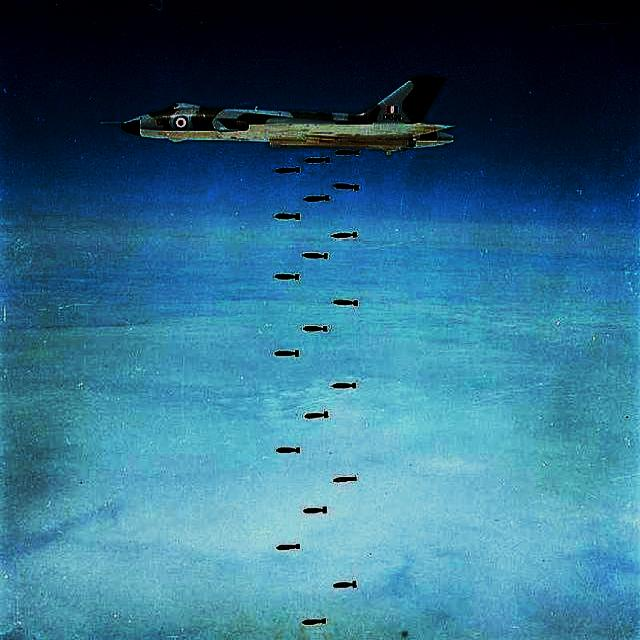Aircraft: (98, 73, 456, 156)
